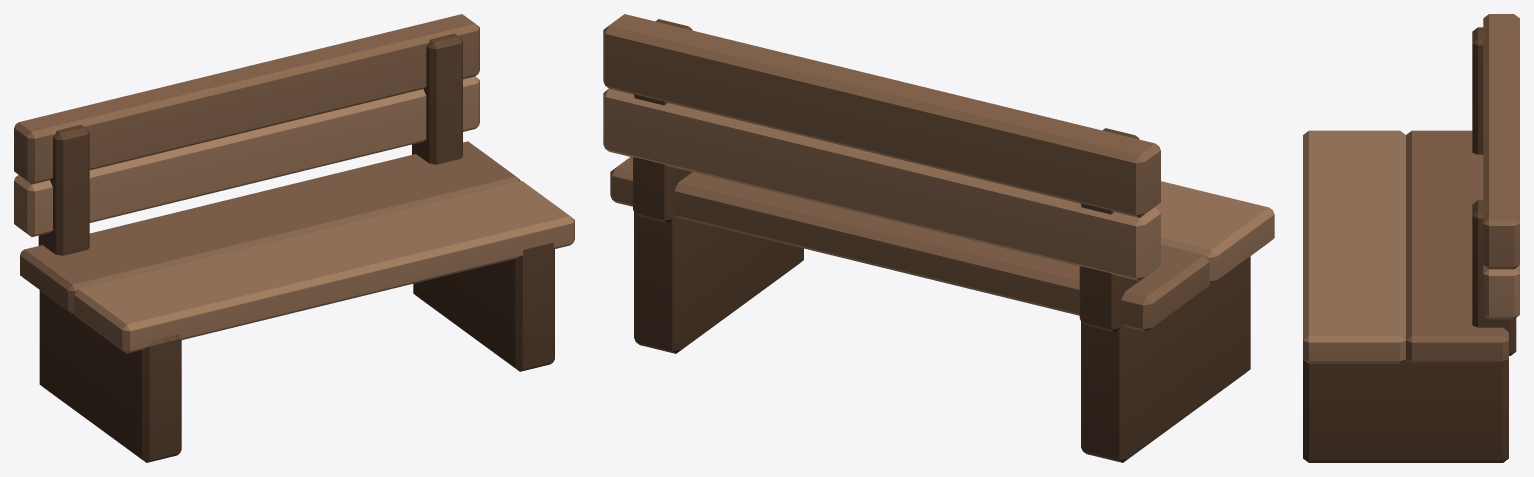
Rendered from bench.glb.
3 renders of one model, left to right at view 1: azimuth 30°, elevation 25°; view 2: azimuth 150°, elevation 25°; view 3: azimuth 270°, elevation 25°, orthographic. The views are drawn at different scales.
Parts seen in each view (by area): view 1: bench; view 2: bench; view 3: bench.
Boxes of the visible parts, x1,y1,x2,y2 form: bench: (14,14,574,462); bench: (603,14,1274,462); bench: (1303,14,1519,462).
Bounding box in the file's own units: 0.8 × 0.45 × 0.35.
